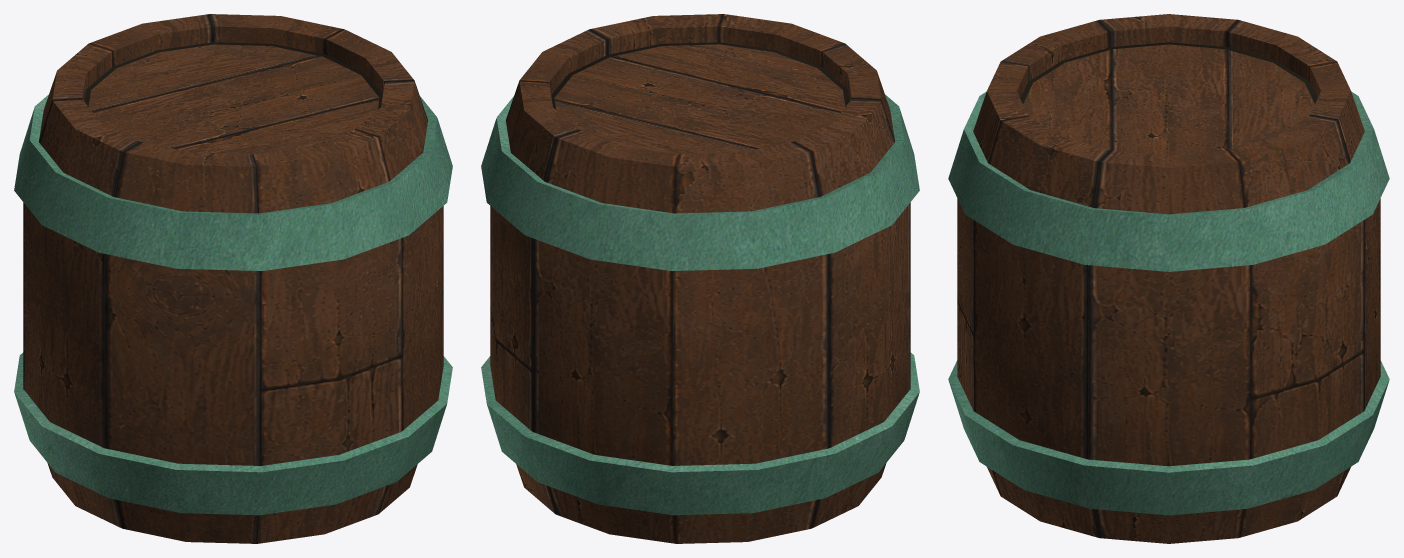
The model's file is Wood_Barrel_2_drop.fbx.
3 renders of one model, left to right at view 1: azimuth 30°, elevation 25°; view 2: azimuth 150°, elevation 25°; view 3: azimuth 270°, elevation 25°, orthographic.
Visible parts, largest first — view 1: Wood_Barrel_2_drop.010, Wood_Barrel_2_drop.009, Wood_Barrel_2_drop.001, Wood_Barrel_2_drop.003, Wood_Barrel_2_drop.011, Wood_Barrel_2_drop.002, Wood_Barrel_2_drop.008, Wood_Barrel_2_drop.006, Wood_Barrel_2_drop.005, Wood_Barrel_2_drop.007, Wood_Barrel_2_drop.012; view 2: Wood_Barrel_2_drop.012, Wood_Barrel_2_drop.005, Wood_Barrel_2_drop.001, Wood_Barrel_2_drop.003, Wood_Barrel_2_drop.011, Wood_Barrel_2_drop.002, Wood_Barrel_2_drop.006, Wood_Barrel_2_drop.008, Wood_Barrel_2_drop.009, Wood_Barrel_2_drop.007, Wood_Barrel_2_drop.010; view 3: Wood_Barrel_2_drop.007, Wood_Barrel_2_drop.006, Wood_Barrel_2_drop.008, Wood_Barrel_2_drop.001, Wood_Barrel_2_drop.003, Wood_Barrel_2_drop.002, Wood_Barrel_2_drop.005, Wood_Barrel_2_drop.009, Wood_Barrel_2_drop.011, Wood_Barrel_2_drop.010, Wood_Barrel_2_drop.012.
Part boxes in pixels (x1,y1,x2,y2): Wood_Barrel_2_drop.010: [104, 141, 261, 543]; Wood_Barrel_2_drop.009: [253, 130, 401, 543]; Wood_Barrel_2_drop.001: [14, 94, 452, 270]; Wood_Barrel_2_drop.003: [84, 42, 382, 154]; Wood_Barrel_2_drop.011: [23, 99, 139, 528]; Wood_Barrel_2_drop.002: [14, 352, 452, 515]; Wood_Barrel_2_drop.008: [355, 80, 443, 513]; Wood_Barrel_2_drop.006: [209, 14, 343, 54]; Wood_Barrel_2_drop.005: [89, 14, 213, 66]; Wood_Barrel_2_drop.007: [326, 29, 413, 94]; Wood_Barrel_2_drop.012: [39, 43, 112, 140]; Wood_Barrel_2_drop.012: [672, 141, 829, 543]; Wood_Barrel_2_drop.005: [532, 130, 680, 543]; Wood_Barrel_2_drop.001: [481, 94, 919, 270]; Wood_Barrel_2_drop.003: [551, 42, 849, 154]; Wood_Barrel_2_drop.011: [794, 99, 910, 528]; Wood_Barrel_2_drop.002: [481, 352, 919, 515]; Wood_Barrel_2_drop.006: [490, 80, 578, 513]; Wood_Barrel_2_drop.008: [590, 14, 724, 54]; Wood_Barrel_2_drop.009: [720, 14, 844, 66]; Wood_Barrel_2_drop.007: [520, 29, 607, 94]; Wood_Barrel_2_drop.010: [821, 43, 894, 140]; Wood_Barrel_2_drop.007: [1088, 150, 1249, 543]; Wood_Barrel_2_drop.006: [1227, 115, 1364, 537]; Wood_Barrel_2_drop.008: [973, 115, 1110, 537]; Wood_Barrel_2_drop.001: [948, 91, 1389, 271]; Wood_Barrel_2_drop.003: [1020, 42, 1317, 155]; Wood_Barrel_2_drop.002: [948, 360, 1389, 515]; Wood_Barrel_2_drop.005: [1309, 61, 1380, 494]; Wood_Barrel_2_drop.009: [957, 61, 1028, 494]; Wood_Barrel_2_drop.011: [1100, 14, 1237, 46]; Wood_Barrel_2_drop.010: [1001, 20, 1110, 81]; Wood_Barrel_2_drop.012: [1227, 20, 1336, 81].
Size of the model in its own units: 77.9 by 73.2 by 77.9.
